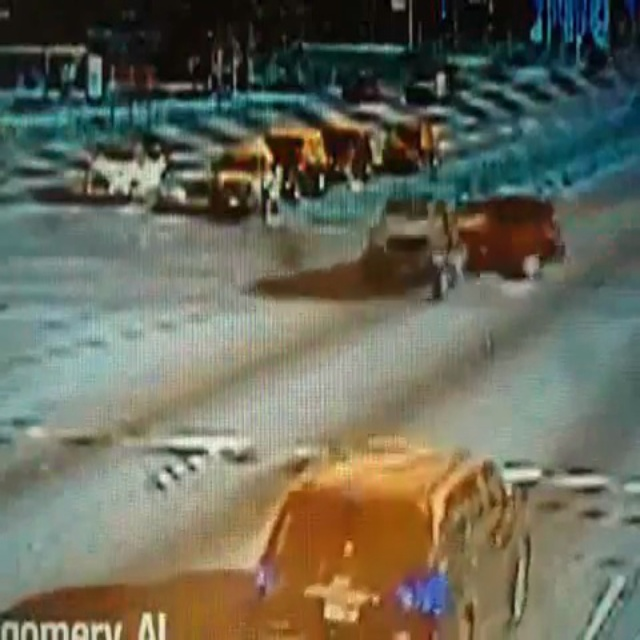acc: (358, 187, 563, 296)
